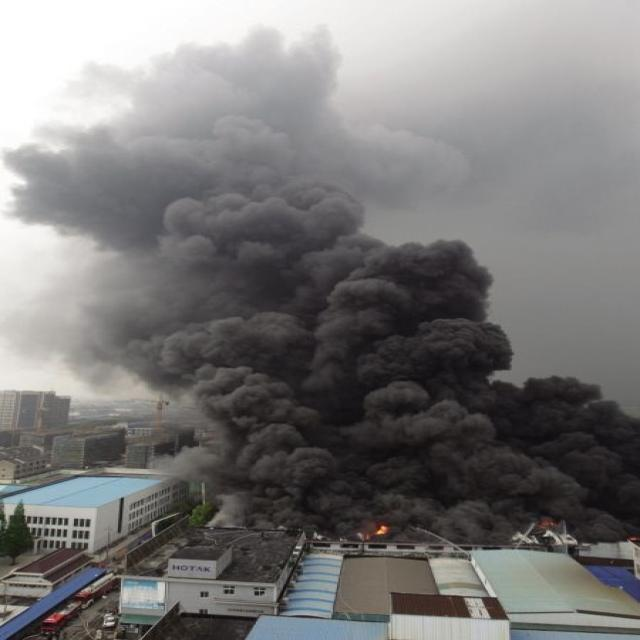Fire: (374, 524, 388, 536)
Smoke: (1, 22, 640, 546)
